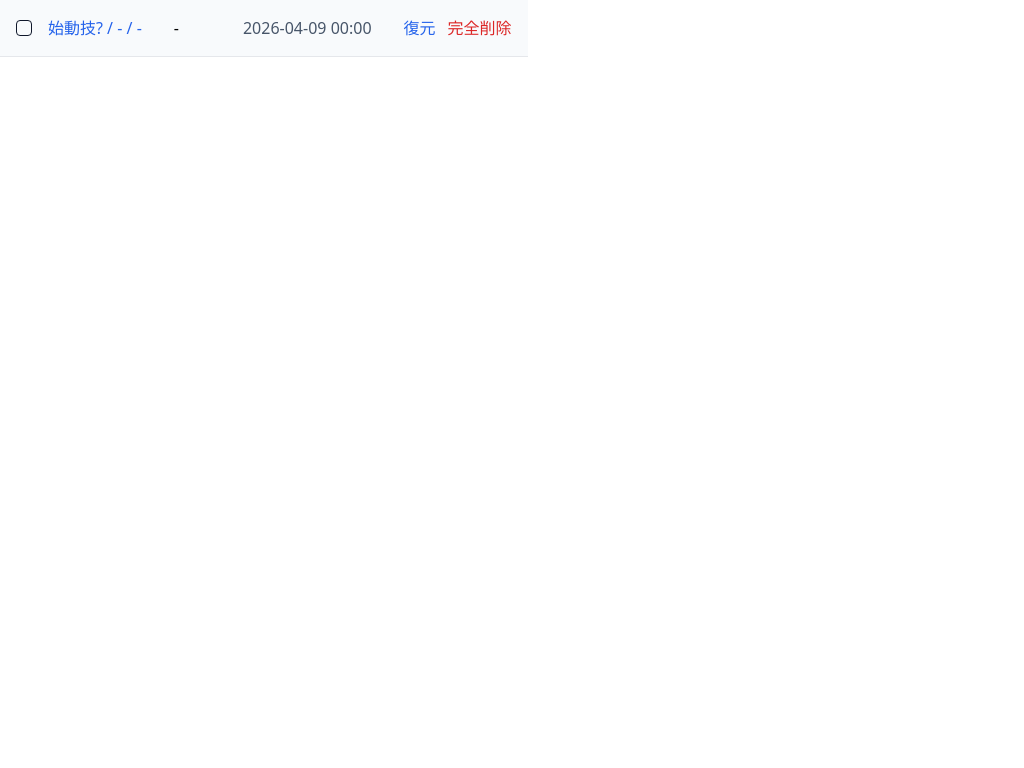
Scenario: TrashListRow › 完全削除失敗時に role=alert でエラーメッセージが表示される
The width and height of the screenshot is (1024, 768).
Click the button "完全削除": click(480, 28) [448,16,512,40]
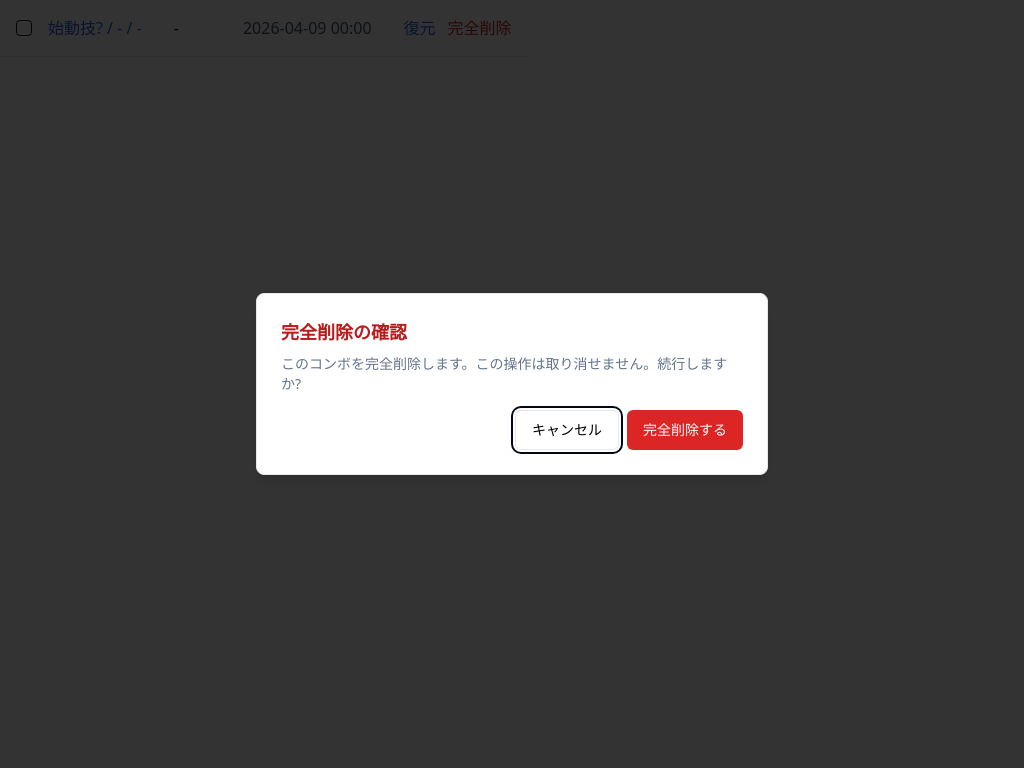
Click the button "完全削除する": click(685, 430) [627,410,743,450]
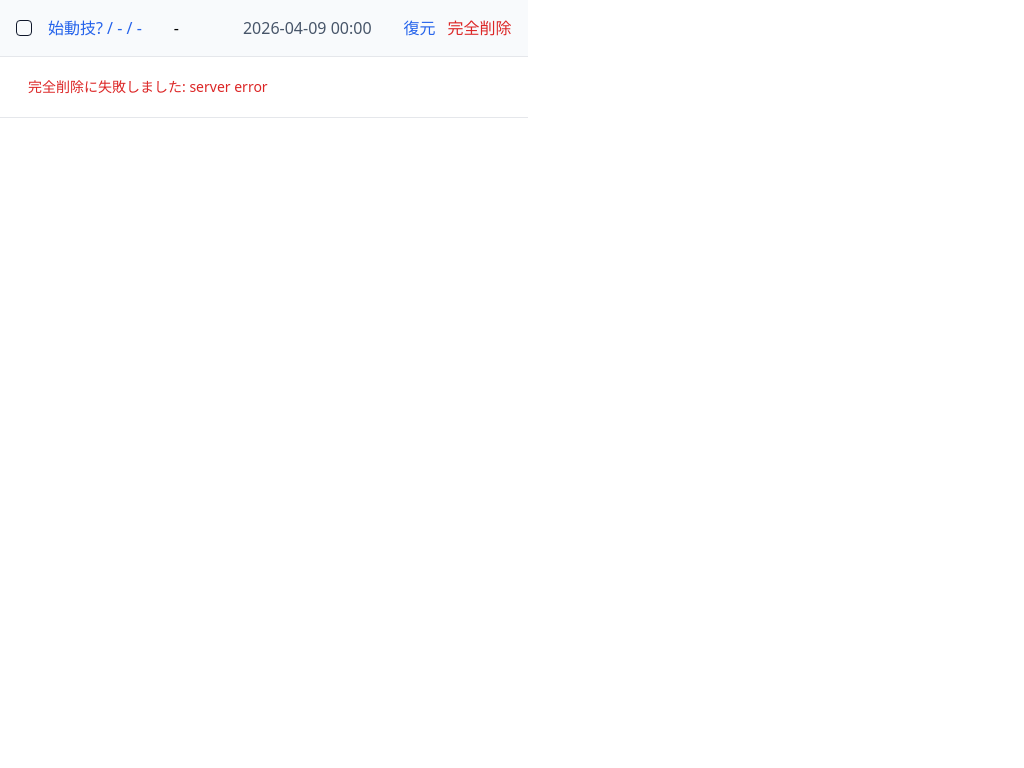
Result: the message shows "完全削除に失敗しました" at [28,77,268,96]
